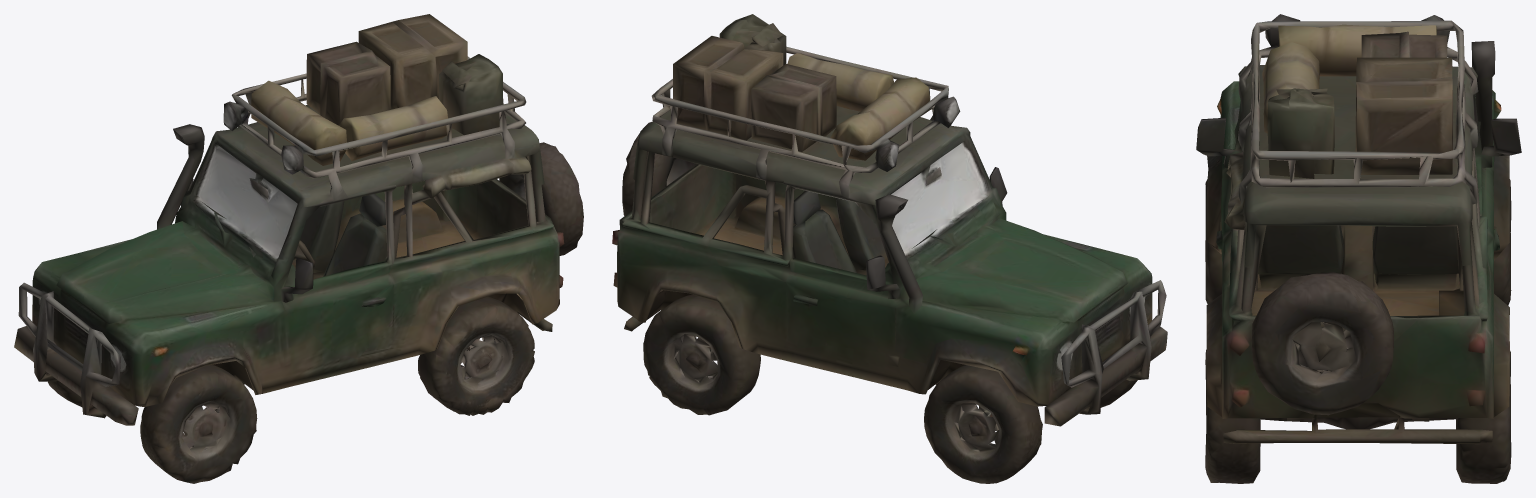
The model's file is car_jeep_ranger.glb.
The picture shows the model from 3 angles, left to right: view 1: azimuth 30°, elevation 25°; view 2: azimuth 150°, elevation 25°; view 3: azimuth 270°, elevation 25°; orthographic projection. The views are drawn at different scales.
Parts seen in each view (by area): view 1: tripo_node_180d848e-0e1a-4834-ab69-eaede3c2f3a5; view 2: tripo_node_180d848e-0e1a-4834-ab69-eaede3c2f3a5; view 3: tripo_node_180d848e-0e1a-4834-ab69-eaede3c2f3a5.
Part boxes in pixels (x1=…): tripo_node_180d848e-0e1a-4834-ab69-eaede3c2f3a5: x1=14, y1=14, x2=583, y2=483; tripo_node_180d848e-0e1a-4834-ab69-eaede3c2f3a5: x1=612, y1=14, x2=1167, y2=483; tripo_node_180d848e-0e1a-4834-ab69-eaede3c2f3a5: x1=1196, y1=14, x2=1521, y2=483.
Bounding box in the file's own units: 1 × 0.6294 × 0.4609.
Materials: 1 (1 with a texture image).
